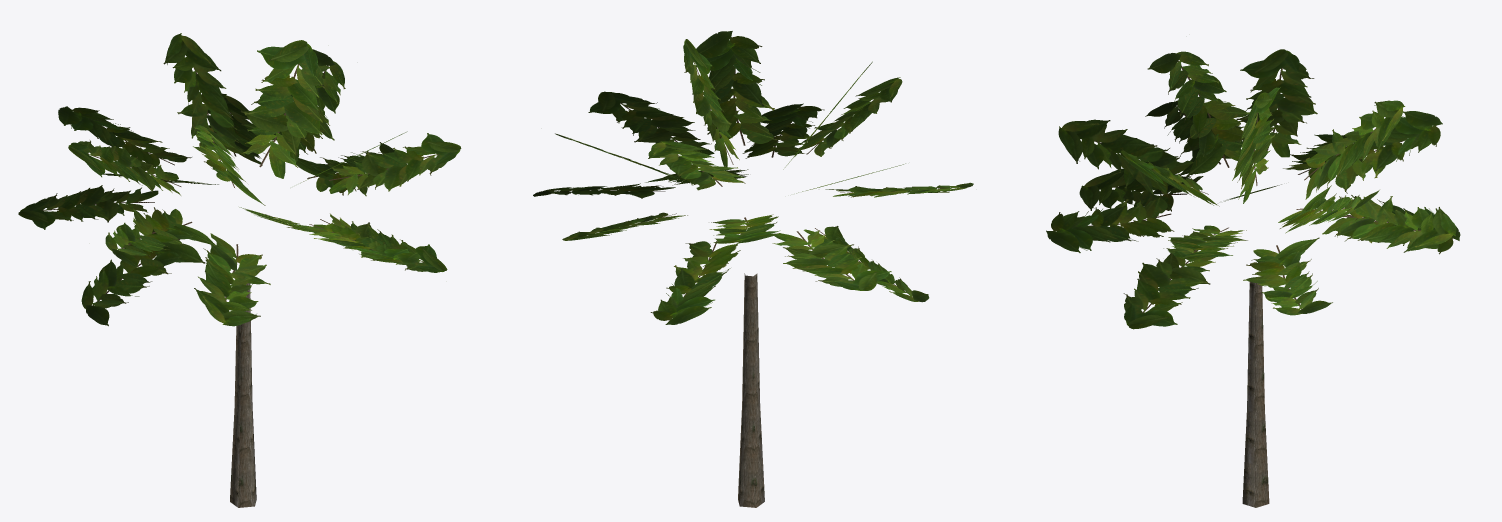
Rendered from tree_2_far.glb.
The picture shows the model from 3 angles, left to right: view 1: azimuth 30°, elevation 25°; view 2: azimuth 150°, elevation 25°; view 3: azimuth 270°, elevation 25°; orthographic projection. The views are drawn at different scales.
Visible parts, largest first — view 1: TreeFar; view 2: TreeFar; view 3: TreeFar.
Part boxes in pixels (x1,y1,x2,y2): TreeFar: (18, 33, 461, 507); TreeFar: (533, 31, 973, 507); TreeFar: (1046, 49, 1460, 507).
Bounding box in the file's own units: 9.79 × 10.75 × 9.94.
2 materials, 2 textured.
